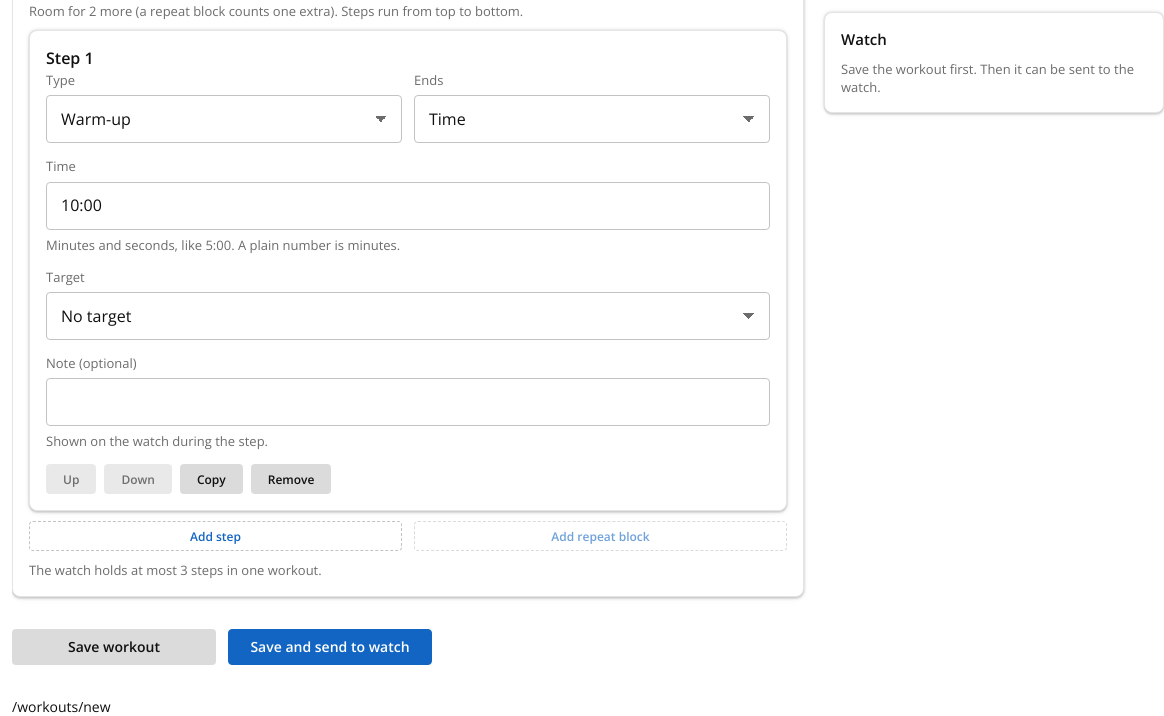
building a workout › stops adding at the limit of steps and says why
The image size is (1164, 716).
(page scrolled)
Click the button "Add step". click: [216, 536]
box: [29, 521, 402, 551]
(page scrolled)
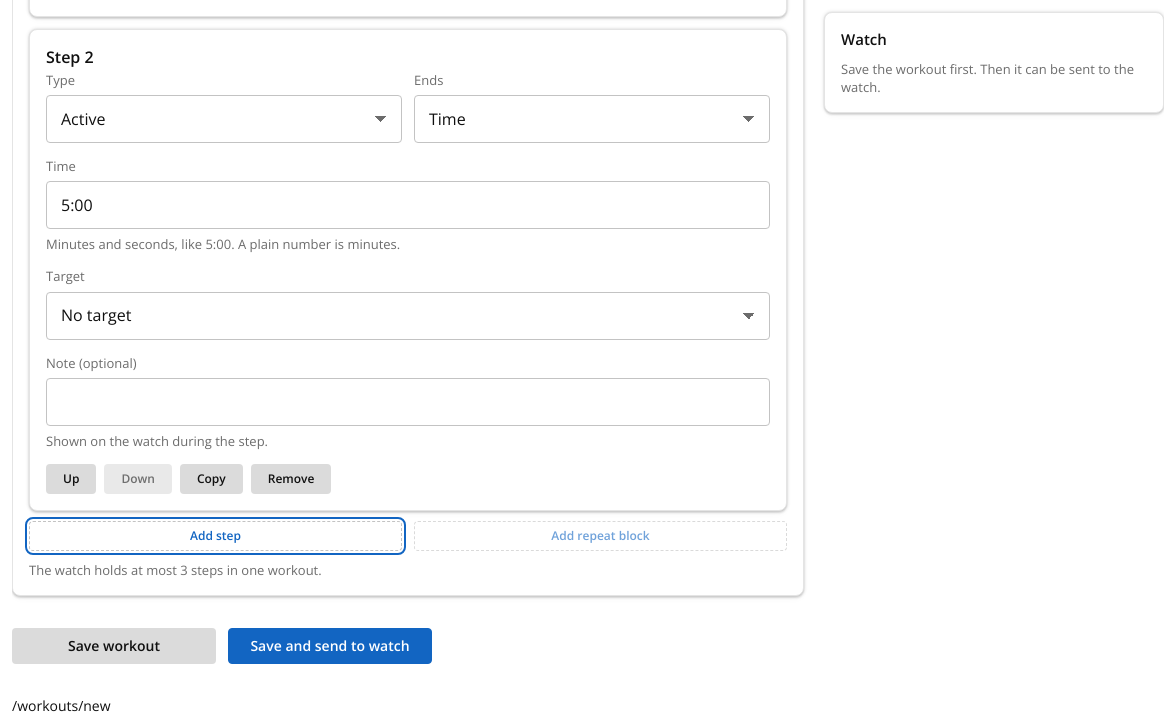
Click the button "Add step". click: [216, 536]
box: [29, 521, 402, 551]
(page scrolled)
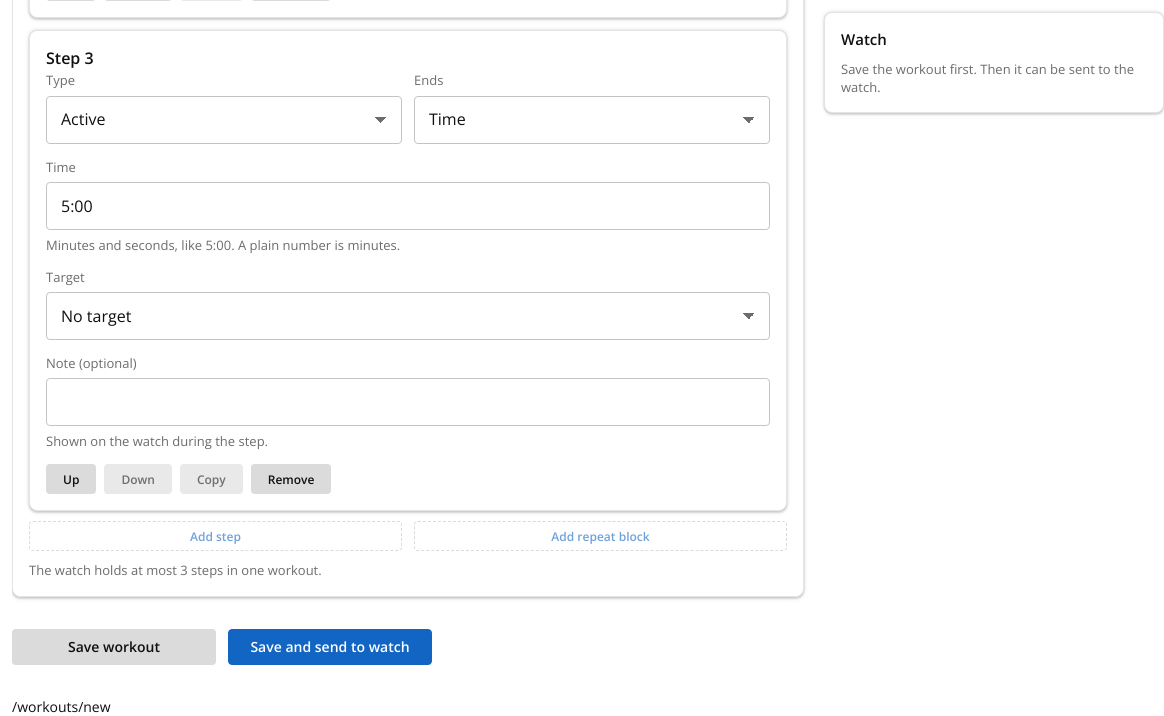
Expected: the button "Add repeat block" is disabled, [414, 522, 787, 552]
Now the button "Add step" is disabled, box [29, 522, 402, 552]
